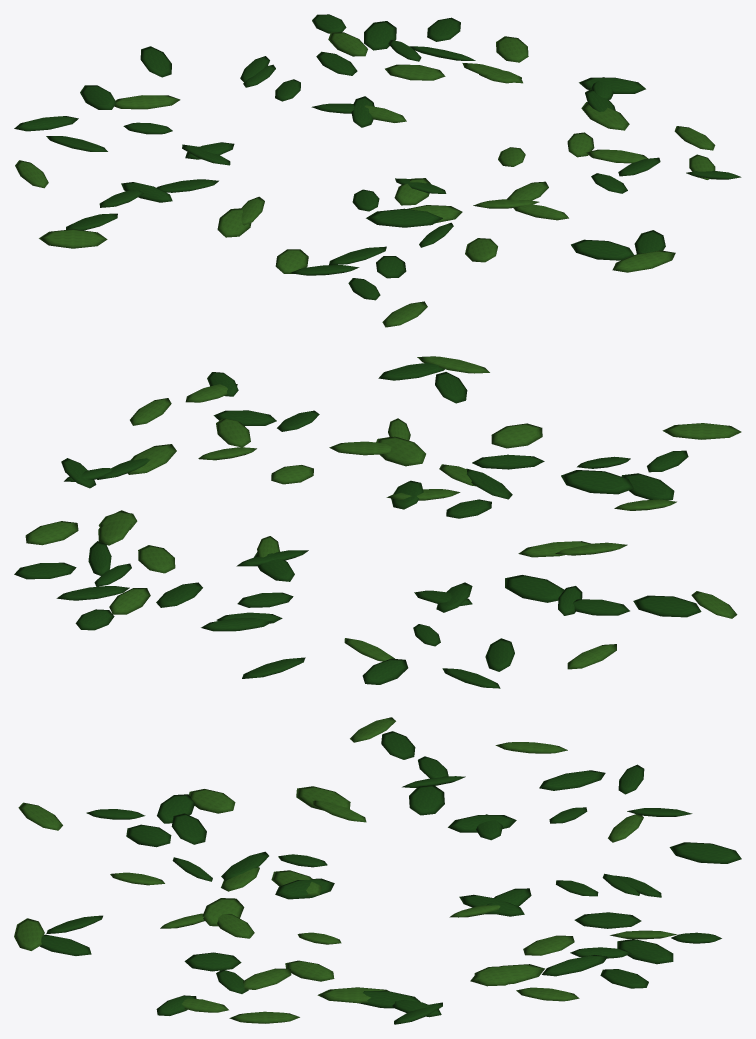
Rendered from FOOD_Season_Shepherd.glb.
3 views of the same model, one above another, from view 1: azimuth 30°, elevation 25°; view 2: azimuth 150°, elevation 25°; view 3: azimuth 270°, elevation 25° (orthographic). The views are drawn at different scales.
Visible parts, largest first — view 1: FOOD_Season_Shepherd; view 2: FOOD_Season_Shepherd; view 3: FOOD_Season_Shepherd.
Boxes of the visible parts, bbox=[...] form: FOOD_Season_Shepherd: bbox=[14, 14, 741, 327]; FOOD_Season_Shepherd: bbox=[14, 356, 741, 688]; FOOD_Season_Shepherd: bbox=[14, 717, 741, 1024].
Bounding box in the file's own units: 0.56 × 0.008 × 0.56.
Materials: 2 (2 with a texture image).
